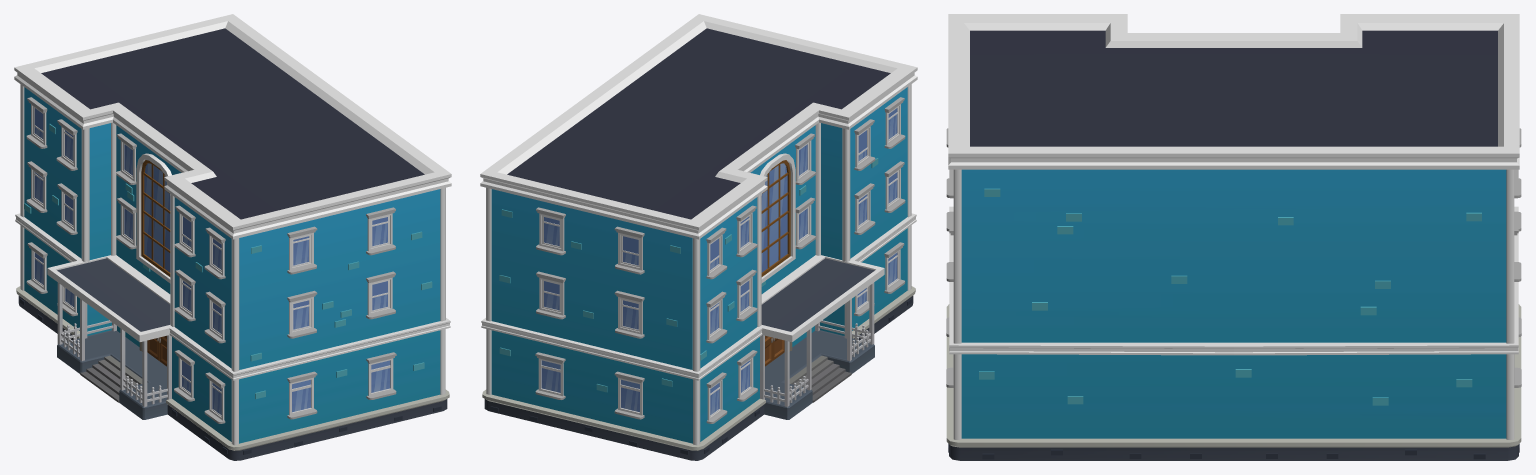
File: Building_5_2_F.fbx
3 renders of one model, left to right at view 1: azimuth 30°, elevation 25°; view 2: azimuth 150°, elevation 25°; view 3: azimuth 270°, elevation 25°, orthographic. The views are drawn at different scales.
Parts seen in each view (by area): view 1: Building_5_2_F; view 2: Building_5_2_F; view 3: Building_5_2_F.
Part boxes in pixels (x1,y1,x2,y2): Building_5_2_F: (14,14,451,460); Building_5_2_F: (480,14,917,460); Building_5_2_F: (946,14,1521,460).
Size of the model in its own units: 1251 by 1126 by 1908.
